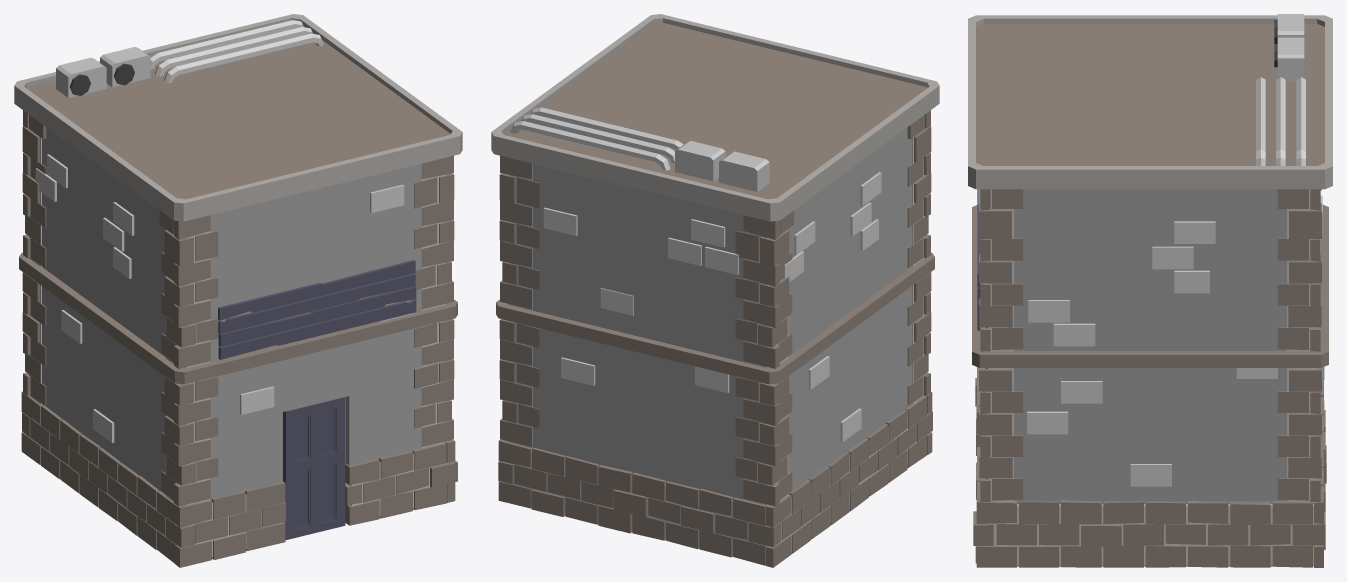
File: shop_2story_sign.fbx
3 views of the same model, side by side, from view 1: azimuth 30°, elevation 25°; view 2: azimuth 150°, elevation 25°; view 3: azimuth 270°, elevation 25° (orthographic). The views are drawn at different scales.
Visible parts, largest first — view 1: shop_2story_sign_LOD0; view 2: shop_2story_sign_LOD0; view 3: shop_2story_sign_LOD0.
Part boxes in pixels (left/top/right/bottom): shop_2story_sign_LOD0: left=14, top=14, right=462, bottom=567; shop_2story_sign_LOD0: left=491, top=14, right=939, bottom=567; shop_2story_sign_LOD0: left=968, top=14, right=1332, bottom=567.
Size of what is drawn, in the model's own units: 5.82 by 7.44 by 5.82.
